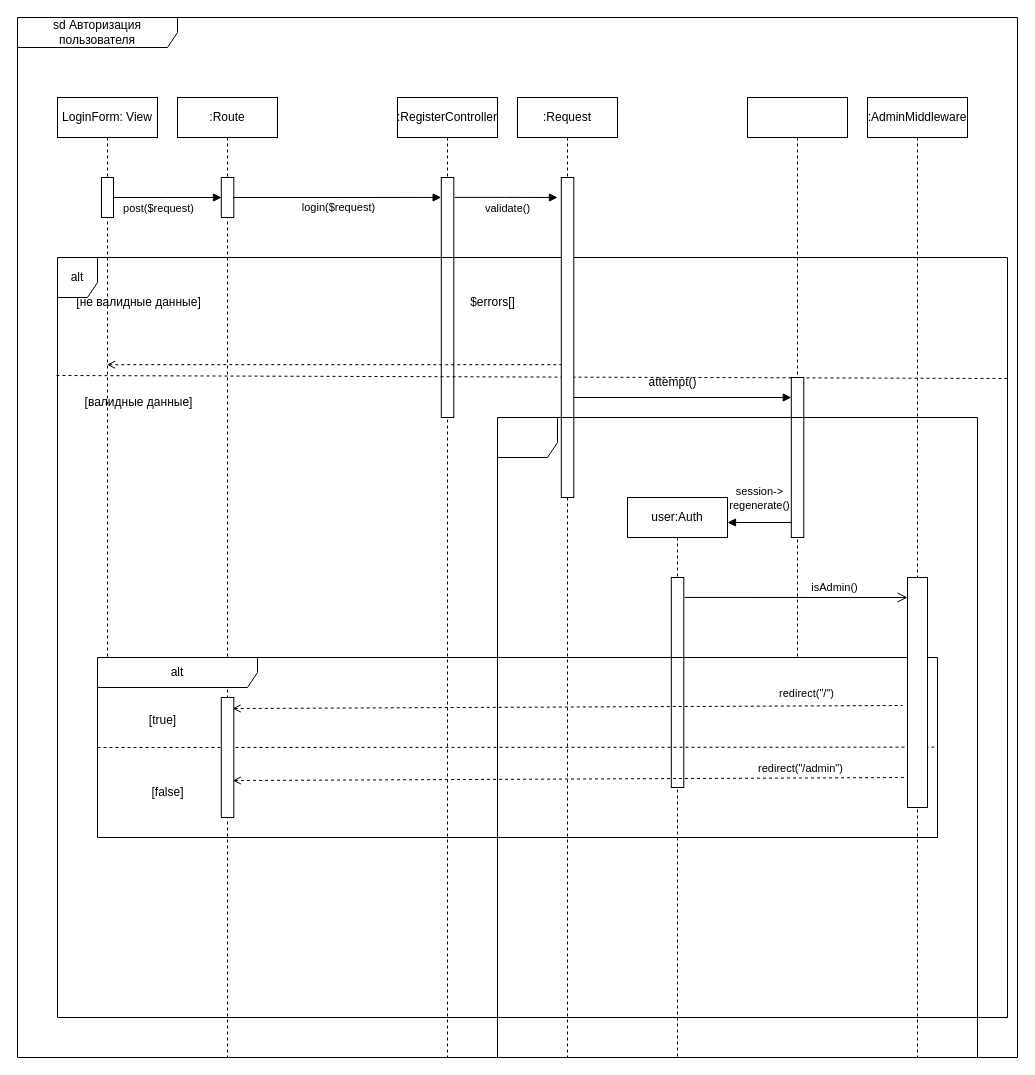
Some shapes in this 1035 by 1075 pixel diagram are drawn without their labels. The shapes that lost their labels are listed below. From the top down, each one's box as (x1, y1, x2, y2) in pixels, then its label:
(746, 96, 848, 658): :Auth
(496, 416, 978, 1058): Opt
